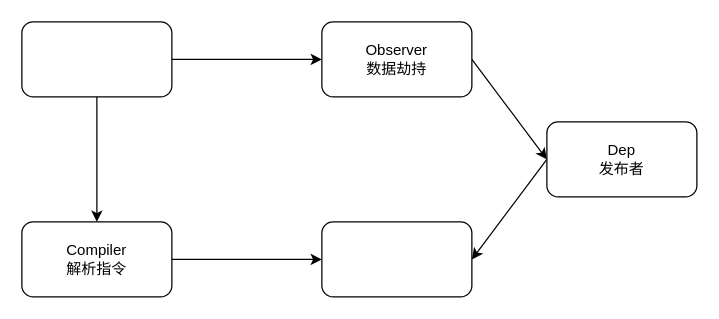
Image size: 719x319. Some labels were removed from this diagram. The shapes that lost their labels are listed below. From the top down, each one's centre as x and y in pixels, then its label:
[96,59]: Vue
[396,259]: Watcher 观察者
